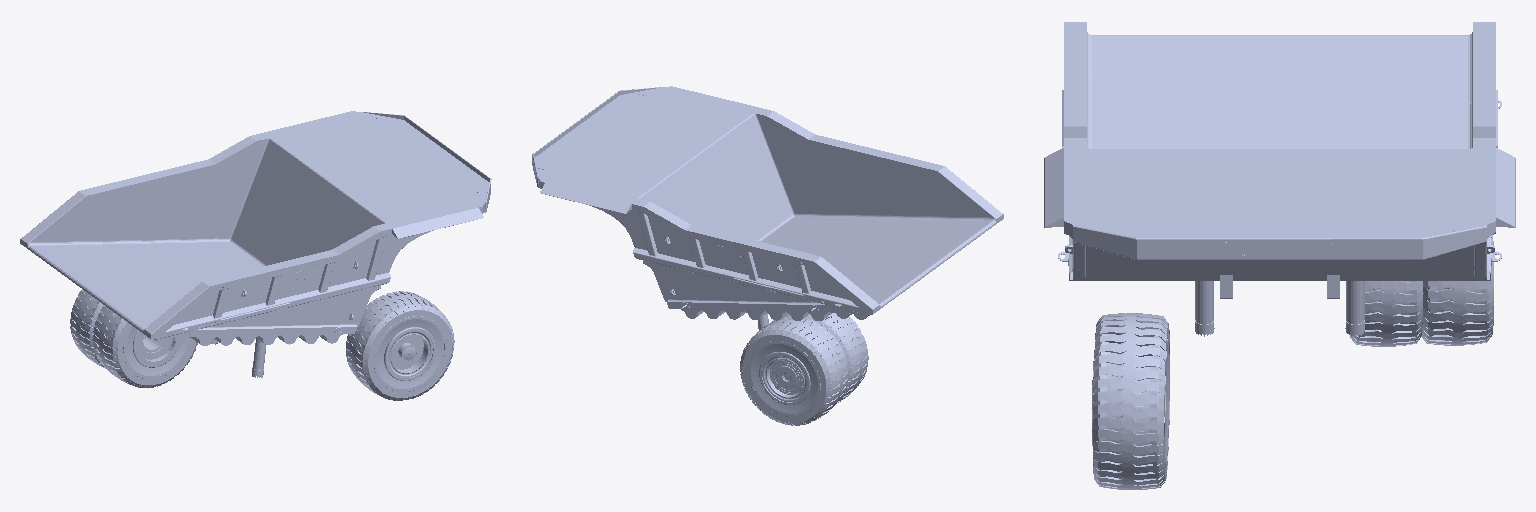
URDF robot description (rc_truck):
<?xml version="1.0" encoding="utf-8"?>
<robot
  name="rc_truck">
 <link name="base_link">
    <inertial>
      <origin
        xyz="0 0 0"
        rpy="0 0 0" />
      <mass
        value="2" />
      <inertia
        ixx="0.01"
        ixy="0.01"
        ixz="0.01"
        iyy="0.01"
        iyz="0.01"
        izz="0.01" />
    </inertial>
    <visual>
      <origin
        xyz="0 0 0"
        rpy="0 0 0" />
      <geometry>
        <mesh
          filename="package://rc_truck/meshes/base_link.STL" />
      </geometry>
      <material
        name="">
        <color
          rgba="0.792156862745098 0.819607843137255 0.933333333333333 1" />
      </material>
    </visual>
    <collision>
      <origin
        xyz="0 0 0"
        rpy="0 0 0" />
      <geometry>
      <box size='0.28 0.211 0.4'/>
      </geometry>
    </collision>
    </link>
<!-- lidar -->

 <link name="laser">
    <inertial>
      <origin
        xyz="0 0 0"
        rpy="0 0 0" />
      <mass
        value="0.001" />
      <inertia
        ixx="0.01"
        ixy="0.01"
        ixz="0.01"
        iyy="0.01"
        iyz="0.01"
        izz="0.01" />
    </inertial>
    <visual>
      <origin
        xyz="0 0 0"
        rpy="0 0 0" />
      <geometry>
        <mesh
          filename="package://rc_truck/meshes/rplidar.stl" />
      </geometry>
      <material
        name="">
        <color
          rgba="0.792156862745098 0.819607843137255 0.933333333333333 1" />
      </material>
    </visual>
    <collision>
      <origin
        xyz="0 0 0"
        rpy="0 0 0" />
      <geometry>
        <mesh
          filename="package://rc_truck/meshes/rplidar.stl" />
      </geometry>
    </collision>
    </link>


<joint name="lidar_to_base" type="fixed">
      <parent link="base_link"/>
      <child link="laser"/>
      <origin xyz="0.32 0 0.005"/>
    </joint>

  <gazebo reference="laser">
    <sensor type="ray" name="head_rplidar_sensor">
      <pose>0 0 0.06 0 0 0</pose>
      <visualize>false</visualize>
      <update_rate>40</update_rate>
      <ray>
        <scan>
          <horizontal>
            <samples>720</samples>
            <resolution>1</resolution>
            <min_angle>-3.14159265</min_angle>
            <max_angle>3.14159265</max_angle>
          </horizontal>
        </scan>
        <range>
          <min>0.2</min>
          <max>30.0</max>
          <resolution>0.01</resolution>
        </range>
        <noise>
          <type>gaussian</type>
          <mean>0.0</mean>
          <stddev>0.01</stddev>
        </noise>
      </ray>
      <plugin name="gazebo_ros_head_rplidar_controller" filename="libgazebo_ros_laser.so">
        <topicName>scan</topicName>
        <frameName>laser</frameName>
      </plugin>
    </sensor>
  </gazebo>

<!-- GPS -->
 <link name="gnss_1">
    <inertial>
      <origin
        xyz="0 0 0"
        rpy="0 0 0" />
      <mass
        value="0.001" />
      <inertia
        ixx="0.01"
        ixy="0.01"
        ixz="0.01"
        iyy="0.01"
        iyz="0.01"
        izz="0.01" />
    </inertial>
    <visual>
      <origin
        xyz="0 0 0"
        rpy="0 0 0" />
      <geometry>
        <mesh
          filename="package://rc_truck/meshes/gps.stl" />
      </geometry>
      <material
        name="">
        <color
          rgba="0.792156862745098 0.819607843137255 0.933333333333333 1" />
      </material>
    </visual>
    <collision>
      <origin
        xyz="0 0 0"
        rpy="0 0 0" />
      <geometry>
        <mesh
          filename="package://rc_truck/meshes/gps.stl" />
      </geometry>
    </collision>
    </link>

<joint name="gnss_1_to_base" type="fixed">
      <parent link="dumper"/>
      <child link="gnss_1"/>
      <origin xyz="0.815 -0.26 0.23"/>
    </joint>
  
  <gazebo>
    <plugin name="gnss_1_controller" filename="libhector_gazebo_ros_gps.so">
	<alwayson>true</alwayson>
	<robotnamespace>gnss_1</robotnamespace>    
        <updaterate>1.0</updaterate>
	<bodyname>gnss_1</bodyname>
	<topicname>gnss_1/topic</topicname>
	<velocitytopicname>gnss_1/velocity</velocitytopicname>
        <service>gnss_1/service</service>
	<gaussiannoise>0.1 0.1 0.1</gaussiannoise>
	<velocitydrift>0 0 0</velocitydrift>
	<velocitygaussiannoise>0.1 0.1 0.1</velocitygaussiannoise>
<referenceLatitude>6648919.39</referenceLatitude>
<referenceLongitude>266441.65</referenceLongitude>
<referenceHeading>x</referenceHeading>



    </plugin>
  </gazebo>

 <link name="gnss_2">
    <inertial>
      <origin
        xyz="0 0 0"
        rpy="0 0 0" />
      <mass
        value="0.001" />
      <inertia
        ixx="0.01"
        ixy="0.01"
        ixz="0.01"
        iyy="0.01"
        iyz="0.01"
        izz="0.01" />
    </inertial>
    <visual>
      <origin
        xyz="0 0 0"
        rpy="0 0 0" />
      <geometry>
        <mesh
          filename="package://rc_truck/meshes/gps.stl" />
      </geometry>
      <material
        name="">
        <color
          rgba="0.792156862745098 0.819607843137255 0.933333333333333 1" />
      </material>
    </visual>
    <collision>
      <origin
        xyz="0 0 0"
        rpy="0 0 0" />
      <geometry>
        <mesh
          filename="package://rc_truck/meshes/gps.stl" />
      </geometry>
    </collision>
    </link>

<joint name="gnss_2_to_base" type="fixed">
      <parent link="dumper"/>
      <child link="gnss_2"/>
      <origin xyz="0.815 0.26 0.23"/>
    </joint>
  
  <gazebo>
    <plugin name="gnss_2_controller" filename="libhector_gazebo_ros_gps.so">
	<alwayson>true</alwayson>
	<robotnamespace>gnss_2</robotnamespace>    
        <updaterate>1.0</updaterate>
	<bodyname>gnss_2</bodyname>
	<topicname>gnss_2/topic</topicname>
        <service>gnss_2/velocity</service>
	<velocitytopicname>gnss_2/service</velocitytopicname>
	<gaussiannoise>0.1 0.1 0.1</gaussiannoise>
	<velocitydrift>0 0 0</velocitydrift>
	<velocitygaussiannoise>0.1 0.1 0.1</velocitygaussiannoise>
<referenceLatitude>6648919.39</referenceLatitude>
<referenceLongitude>266441.65</referenceLongitude>
<referenceHeading>x</referenceHeading>
    </plugin>
  </gazebo>

<!-- Front Left Wheel -->

 <link name="front_left_steering_link">
    <inertial>
      <mass value="0.001"/>
      <inertia 
	ixx="0.001" 
	ixy="0" 
	ixz="0" 
	iyy="0.001" 
	iyz="0" 
	izz="0.001"/>
    </inertial>
    </link>

<joint name="front_left_steering_to_base_link" type="fixed">
      <parent link="base_link"/>
      <child link="front_left_steering_link"/>

      <origin xyz="0.09 0.22 -0.075"/>
      <axis xyz="0 0 1"/>
      <limit lower="-0.42" upper="0.42"
             effort="12.5106" velocity="1000"/>
    </joint>

    <link name="front_left_axle_carrier">
    <inertial>
      <mass value="0.001"/>
      <inertia 
	ixx="0.001" 
	ixy="0" 
	ixz="0" 
	iyy="0.001" 
	iyz="0" 
	izz="0.001"/>
    </inertial>
    </link>

    <joint name="front_left_axle_steering_joint" type="revolute">
      <parent link="front_left_steering_link"/>
      <child link="front_left_axle_carrier"/>
      <axis xyz="0 0 1"/>
      <limit lower="-0.42" upper="0.42"
             effort="12.5106" velocity="1000"/>
    </joint>

    <transmission name="front_left_steering_trans">
      <type>transmission_interface/SimpleTransmission</type>
      <joint name="front_left_axle_steering_joint">
        <hardwareInterface>hardware_interface/EffortJointInterface</hardwareInterface>
      </joint>
      <actuator name="front_left_steering_act">
        <hardwareInterface>hardware_interface/EffortJointInterface</hardwareInterface>
        <mechanicalReduction>1</mechanicalReduction>
      </actuator>
    </transmission>

  <link
    name="frontwheellft">
    <inertial>
      <origin
        xyz="0 0 0"
        rpy="0 0 0" />
      <mass
        value="0.1" />
      <inertia
        ixx="0.01"
        ixy="0.01"
        ixz="0.01"
        iyy="0.01"
        iyz="0.01"
        izz="0.01" />
    </inertial>
    <visual>
      <origin
        xyz="0 0 0"
        rpy="0 0 0" />
      <geometry>
        <mesh
          filename="package://rc_truck/meshes/frontwheellft.STL" />
      </geometry>
      <material
        name="">
        <color
          rgba="0.792156862745098 0.819607843137255 0.933333333333333 1" />
      </material>
    </visual>
    <collision>
      <origin
        xyz="0 0 0"
        rpy="0 1.57075 0" />
      <geometry>
        <cylinder length="0.115" radius="0.14"/>
      </geometry>
    </collision>
  </link>


  <joint
    name="steeringwheelleft"
    type="continuous">
    <origin
        xyz="0 0 0"
        rpy="0 0 4.752018" />
    <parent
      link="front_left_axle_carrier" />
    <child
      link="frontwheellft" />
    <axis
      xyz="-1 0 0" />
  </joint>

    <transmission name="frontwheellft_axle_trans">
      <type>transmission_interface/SimpleTransmission</type>
      <joint name="steeringwheelleft">
        <hardwareInterface>hardware_interface/EffortJointInterface</hardwareInterface>
      </joint>
      <actuator name="frontwheellft_axle_act">
        <hardwareInterface>hardware_interface/EffortJointInterface</hardwareInterface>
        <mechanicalReduction>1</mechanicalReduction>
      </actuator>
    </transmission>

<!-- Front Rigth Wheel -->

<link name="front_right_steering_link">
    <inertial>
      <mass value="0.001"/>
      <inertia 
	ixx="0.001" 
	ixy="0" 
	ixz="0" 
	iyy="0.001" 
	iyz="0" 
	izz="0.001"/>
    </inertial>
    </link>

<joint name="front_right_steering_to_base_link" type="fixed">
      <parent link="base_link"/>
      <child link="front_right_steering_link"/>

      <origin xyz="0.09 -0.25 -0.075"/>
      <axis xyz="0 0 1"/>
      <limit lower="0.42" upper="-0.42"
             effort="12.5106" velocity="1000"/>
    </joint>

    <link name="front_right_axle_carrier">
    <inertial>
      <mass value="0.001"/>
      <inertia 
	ixx="0.001" 
	ixy="0" 
	ixz="0" 
	iyy="0.001" 
	iyz="0" 
	izz="0.001"/>
    </inertial>
    </link>

    <joint name="front_right_axle_steering_joint" type="revolute">
      <parent link="front_right_steering_link"/>
      <child link="front_right_axle_carrier"/>
      <axis xyz="0 0 1"/>
      <limit lower="-0.42" upper="0.42"
             effort="12.5106" velocity="1000"/>
    </joint>

    <transmission name="front_right_steering_trans">
      <type>transmission_interface/SimpleTransmission</type>
      <joint name="front_right_axle_steering_joint">
        <hardwareInterface>hardware_interface/EffortJointInterface</hardwareInterface>
      </joint>
      <actuator name="front_right_steering_act">
        <hardwareInterface>hardware_interface/EffortJointInterface</hardwareInterface>
        <mechanicalReduction>1</mechanicalReduction>
      </actuator>
    </transmission>

  <link
    name="frontwheelrgt">
    <inertial>
      <origin
        xyz="0 0 0"
        rpy="0 0 0" />
      <mass
        value="0.1" />
      <inertia
        ixx="0.01"
        ixy="0.01"
        ixz="0.01"
        iyy="0.01"
        iyz="0.01"
        izz="0.01" />
    </inertial>
    <visual>
      <origin
        xyz="0 0 0"
        rpy="0 0 0" />
      <geometry>
        <mesh
          filename="package://rc_truck/meshes/frontwheelrgt.STL" />
      </geometry>
      <material
        name="">
        <color
          rgba="0.792156862745098 0.819607843137255 0.933333333333333 1" />
      </material>
    </visual>
    <collision>
      <origin
        xyz="0 0 0"
        rpy="0 1.57075 0" />
      <geometry>
        <cylinder length="0.115" radius="0.14"/>
      </geometry>
    </collision>
  </link>
  <joint
    name="steeringwheelright"
    type="continuous">
    <origin
        xyz="0 0 0"
        rpy="0 0 -4.752018" />
    <parent
      link="front_right_axle_carrier" />
    <child
      link="frontwheelrgt" />
    <axis
      xyz="1 0 0" />
  </joint>


    <transmission name="frontwheelrgt_axle_trans">
      <type>transmission_interface/SimpleTransmission</type>
      <joint name="steeringwheelright">
        <hardwareInterface>hardware_interface/EffortJointInterface</hardwareInterface>
      </joint>
      <actuator name="frontwheelrgt_axle_act">
        <hardwareInterface>hardware_interface/EffortJointInterface</hardwareInterface>
        <mechanicalReduction>1</mechanicalReduction>
      </actuator>
    </transmission>


<!-- Rear Right Wheel -->

    <link name="rear_right_axle_carrier">
    <inertial>
      <mass value="0.001"/>
      <inertia 
	ixx="0.001" 
	ixy="0" 
	ixz="0" 
	iyy="0.001" 
	iyz="0" 
	izz="0.001"/>
    </inertial>
    </link>

    <joint name="rear_right_axle_base_joint" type="fixed">
      <parent link="base_link"/>
      <child link="rear_right_axle_carrier"/>
      <origin xyz="-0.44 -0.27 -0.075"/>
      <axis xyz="0 0 1"/>
      <limit lower="-0.042" upper="0.042"
             effort="12.5106" velocity="1000"/>
    </joint>

  <link
    name="backwheelrgt">
    <inertial>
      <origin
        xyz="0 0 0"
        rpy="0 0 0" />
      <mass
        value="0.1" />
      <inertia
        ixx="0.01"
        ixy="0.01"
        ixz="0.01"
        iyy="0.01"
        iyz="0.01"
        izz="0.01" />
    </inertial>
    <visual>
      <origin
        xyz="0 0 0"
        rpy="0 0 0" />
      <geometry>
        <mesh
          filename="package://rc_truck/meshes/backwheelrgt.STL" />
      </geometry>
      <material
        name="">
        <color
          rgba="0.792156862745098 0.819607843137255 0.933333333333333 1" />
      </material>
    </visual>
    <collision>
      <origin
        xyz="0 0 0"
        rpy="0 1.57075 0" />
      <geometry>
        <cylinder length="0.222" radius="0.14"/>
      </geometry>
    </collision>
  </link>


  <joint
    name="backwheelright"
    type="continuous">
    <origin
        xyz="0 0 0"
        rpy="0 0 -4.75018" />
    <parent
      link="rear_right_axle_carrier" />
    <child
      link="backwheelrgt" />
    <axis
      xyz="1 0 0" />
  </joint>


    <transmission name="backwheelrgt_axle_trans">
      <type>transmission_interface/SimpleTransmission</type>
      <joint name="backwheelright">
        <hardwareInterface>hardware_interface/EffortJointInterface</hardwareInterface>
      </joint>
      <actuator name="backwheelrgt_axle_act">
        <hardwareInterface>hardware_interface/EffortJointInterface</hardwareInterface>
        <mechanicalReduction>1</mechanicalReduction>
      </actuator>
    </transmission>

<!-- Rear Left Wheel -->

    <link name="rear_left_axle_carrier">
    <inertial>
      <mass value="0.001"/>
      <inertia 
	ixx="0.001" 
	ixy="0" 
	ixz="0" 
	iyy="0.001" 
	iyz="0" 
	izz="0.001"/>
    </inertial>
    </link>

    <joint name="rear_left_axle_base_joint" type="fixed">
      <parent link="base_link"/>
      <child link="rear_left_axle_carrier"/>
      <origin xyz="-0.44 0.23 -0.075"/>
      <axis xyz="0 0 1"/>
      <limit lower="-0.042" upper="0.042"
             effort="12.5106" velocity="1000"/>
    </joint>

  <link
    name="backwheellft">
    <inertial>
      <origin
        xyz="0 0 0"
        rpy="0 0 0" />
      <mass
        value="0.1" />
      <inertia
        ixx="0.01"
        ixy="0.01"
        ixz="0.01"
        iyy="0.01"
        iyz="0.01"
        izz="0.01" />
    </inertial>
    <visual>
      <origin
        xyz="0 0 0"
        rpy="0 0 0" />
      <geometry>
        <mesh
          filename="package://rc_truck/meshes/backwheellft.STL" />
      </geometry>
      <material
        name="">
        <color
          rgba="0.792156862745098 0.819607843137255 0.933333333333333 1" />
      </material>
    </visual>
    <collision>
      <origin
        xyz="0 0 0"
        rpy="0 1.57075 0" />
      <geometry>
        <cylinder length="0.222" radius="0.14"/>
      </geometry>
    </collision>
  </link>

  <joint
    name="backwheelleft"
    type="continuous">
    <origin
        xyz="0 0 0"
        rpy="0 0 4.752018" />
    <parent
      link="rear_left_axle_carrier" />
    <child
      link="backwheellft" />
    <axis
      xyz="-1 0 0" />
  </joint>

    <transmission name="backwheelleft_axle_trans">
      <type>transmission_interface/SimpleTransmission</type>
      <joint name="backwheelleft">
        <hardwareInterface>hardware_interface/EffortJointInterface</hardwareInterface>
      </joint>
      <actuator name="backwheelleft_axle_act">
        <hardwareInterface>hardware_interface/EffortJointInterface</hardwareInterface>
        <mechanicalReduction>1</mechanicalReduction>
      </actuator>
    </transmission>

<!-- Dumper -->

  <link
    name="dumper">
    <inertial>
      <origin
        xyz="0 0 0"
        rpy="0 0 0" />
      <mass
        value="0.1" />
      <inertia
        ixx="0.01"
        ixy="0.01"
        ixz="0.01"
        iyy="0.01"
        iyz="0.01"
        izz="0.01" />
    </inertial>
    <visual>
      <origin
        xyz="0 0 0"
        rpy="0 0 0" />
      <geometry>
        <mesh
          filename="package://rc_truck/meshes/bumper.STL" />
      </geometry>
      <material
        name="">
        <color
          rgba="0.792156862745098 0.819607843137255 0.933333333333333 1" />
      </material>
    </visual>
    <collision>
      <origin
        xyz="0 0 0"
        rpy="0 0 0" />
      <geometry>
      <box size='0.178 0.732 0.01'/>
      </geometry>
    </collision>
  </link>


  <joint
    name="dumper_joint"
    type="revolute">
    <origin
        xyz="-0.51 -0.025 0.082"
        rpy="0 0 0" />
    <parent
      link="base_link" />
    <child
      link="dumper" />
    <limit 
      lower="-0.5" upper="0" effort="0.1" velocity="0.1"/>
    <axis
      xyz="0 1 0" />
  </joint>




<transmission name="tran0">
<type>transmission_interface/SimpleTransmission</type>
<joint name="dumper_joint">
<hardwareInterface>hardware_interface/PositionJointInterface</hardwareInterface>
</joint>
<actuator name="motor0">
<hardwareInterface>hardware_interface/PositionJointInterface</hardwareInterface>
<mechanicalReduction>1</mechanicalReduction>
</actuator>
</transmission>

<gazebo>
<plugin name="control" filename="libgazebo_ros_control.so"/>
</gazebo>
</robot>

--- Facts derived from the render (not from the file) ---
3 views of the same robot in one strip: view 1: azimuth 30°, elevation 25°; view 2: azimuth 150°, elevation 25°; view 3: azimuth 270°, elevation 25° (orthographic).
Robot: rc_truck — 15 links, 14 joints (3 revolute, 4 continuous, 7 fixed); root link base_link; default pose: every joint at zero.
Links seen in each view (by area): view 1: dumper, frontwheelrgt, backwheellft; view 2: dumper, backwheellft; view 3: dumper, frontwheelrgt, backwheellft.
Boxes of the visible links, <box> form: dumper: <box>20,111,491,377</box>; frontwheelrgt: <box>346,291,454,400</box>; backwheellft: <box>70,289,197,387</box>; dumper: <box>532,86,1003,329</box>; backwheellft: <box>740,313,868,425</box>; dumper: <box>1044,22,1515,336</box>; frontwheelrgt: <box>1092,313,1169,489</box>; backwheellft: <box>1350,235,1493,346</box>.
Size in the robot's own frame: 1.08 by 0.732 by 0.5461 metres.
Meshes: 8 distinct files referenced, 5 mesh visuals loaded (4 binary STL); not drawn: 4 (reference not matched to a file when rendering).
